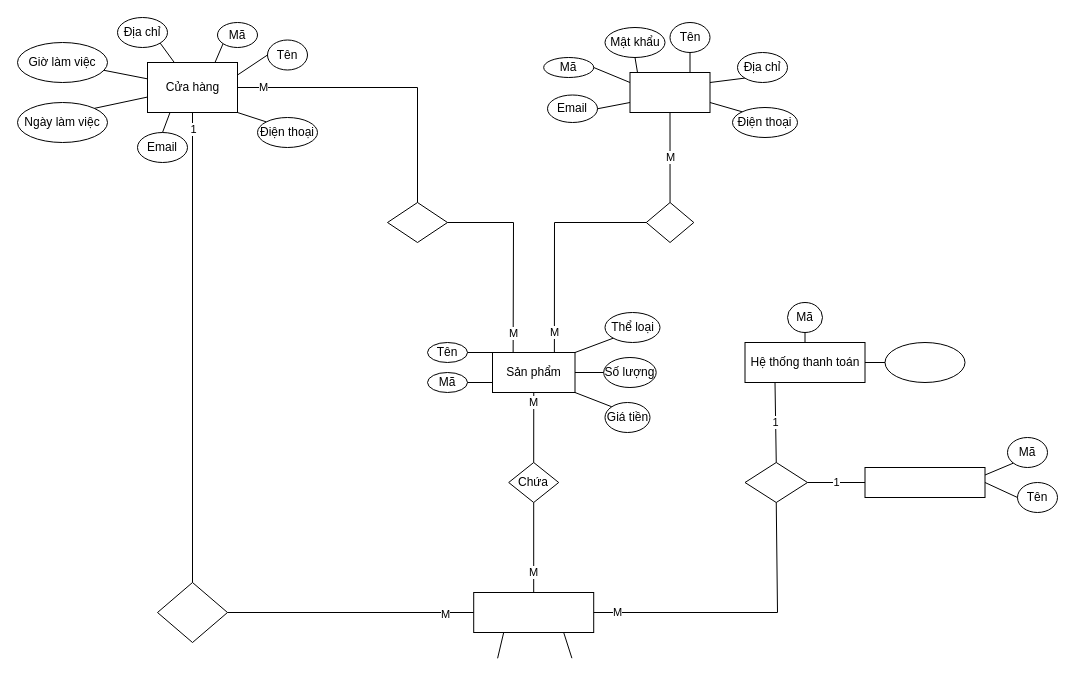
This 1075x677 diagram has some shape labels left out. Here are the shapes that lost their labels. From the top down, the box of each, then its label:
(629, 72, 710, 112): Thành viên
(386, 202, 448, 242): Quản lý
(645, 202, 694, 242): Mua
(884, 342, 965, 382): Phương thức
(744, 462, 808, 502): Áp dụng
(864, 466, 985, 498): Hệ thống vận chuyển
(156, 582, 228, 642): Chốt đơn
(473, 592, 594, 632): Đặt hàng
